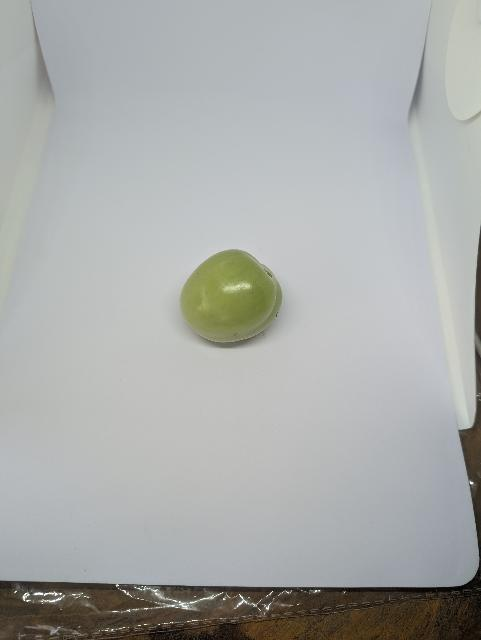green: (166, 235, 302, 368)
